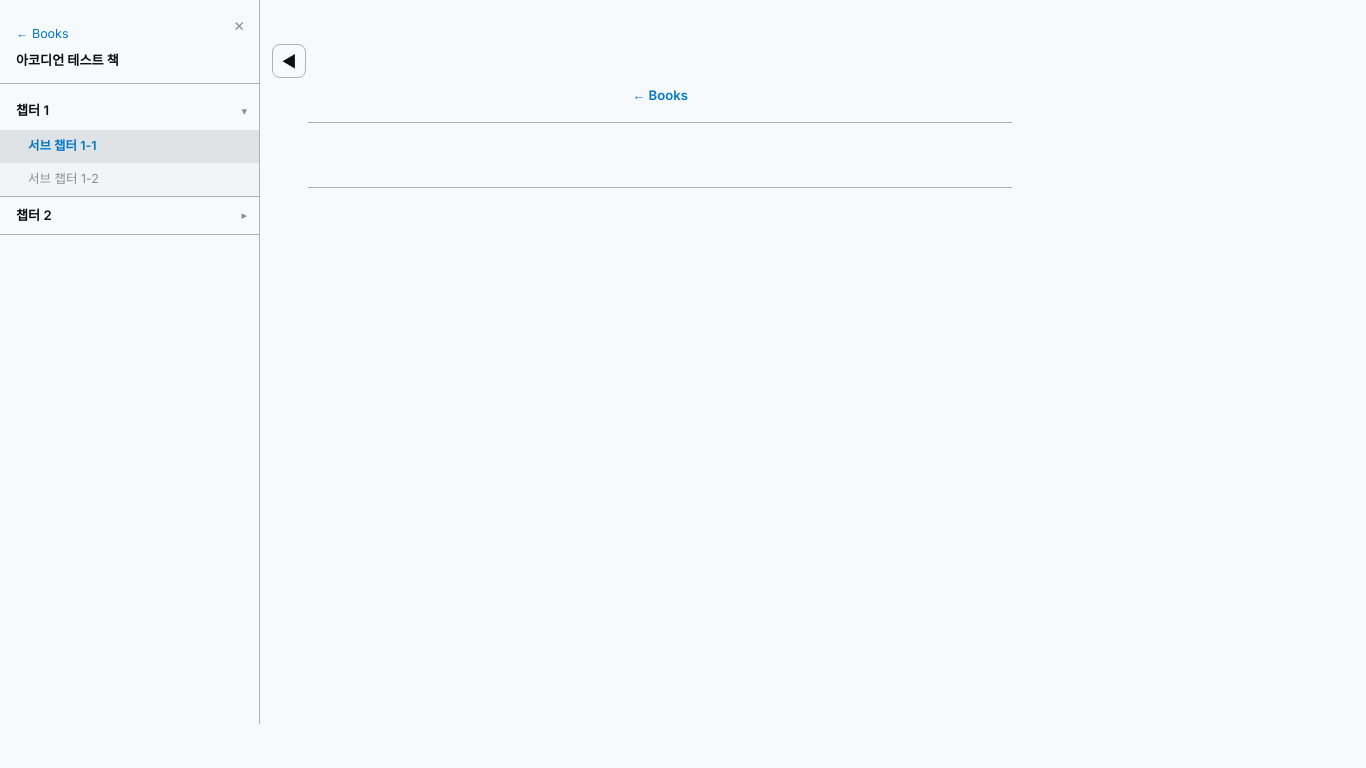
⑥ 아코디언 토글 버튼 — 자식 챕터 표시/숨김 › 닫힌 챕터의 ▸ 버튼 클릭 시 자식 챕터가 표시된다
Expected: the text "서브 챕터 2-1" is not shown
Click the button named "펼치기" at (248,215), box [237,198,259,233]
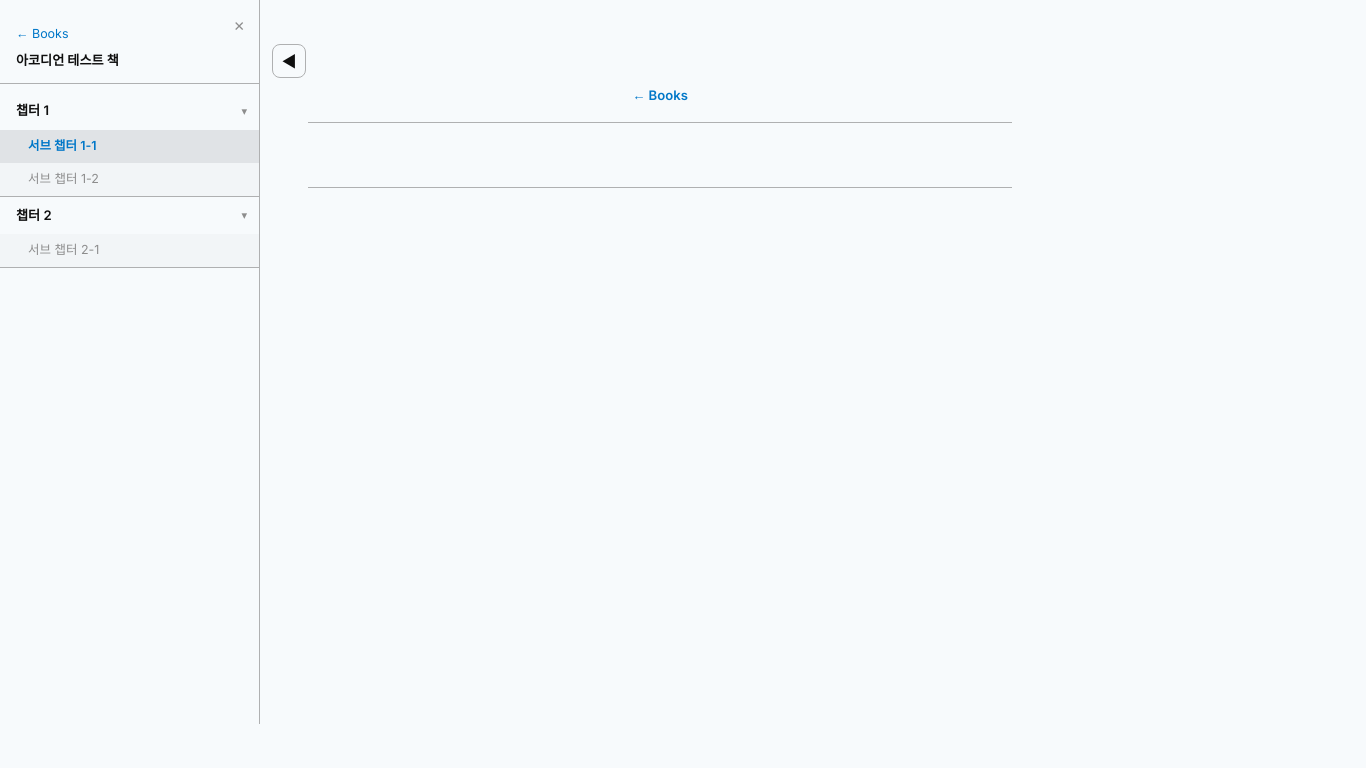
Now the link "서브 챕터 2-1" is shown, box [28,242,99,257]
